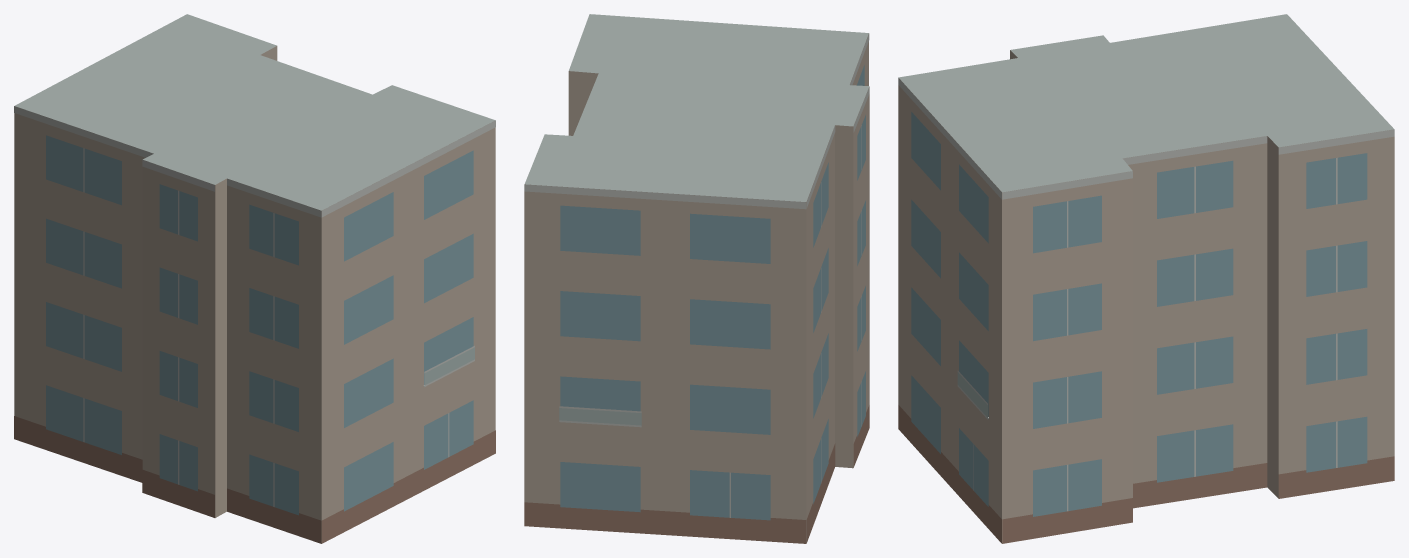
The model's file is survey-upis-32837573.glb.
3 views of the same model, side by side, from view 1: azimuth 30°, elevation 25°; view 2: azimuth 150°, elevation 25°; view 3: azimuth 270°, elevation 25° (orthographic). The views are drawn at different scales.
Parts seen in each view (by area): view 1: survey-upis-32837573.tmp; view 2: survey-upis-32837573.tmp; view 3: survey-upis-32837573.tmp.
Boxes of the visible parts, x1=… form: survey-upis-32837573.tmp: x1=14, y1=14, x2=495, y2=543; survey-upis-32837573.tmp: x1=524, y1=14, x2=869, y2=543; survey-upis-32837573.tmp: x1=898, y1=14, x2=1394, y2=543.
Size of the model in its own units: 12.74 by 11.7 by 14.98.
